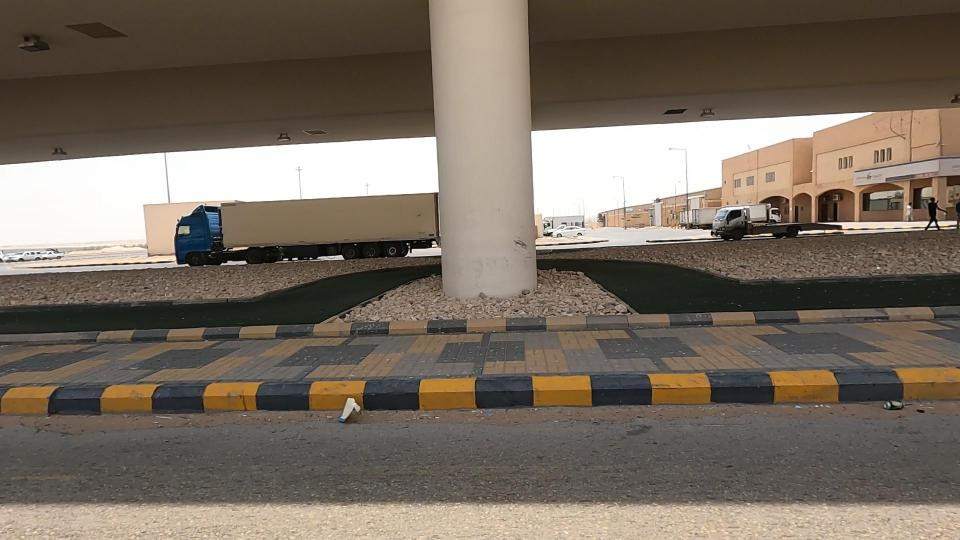GARBAGE: (305, 353, 389, 464), (856, 376, 923, 434)
